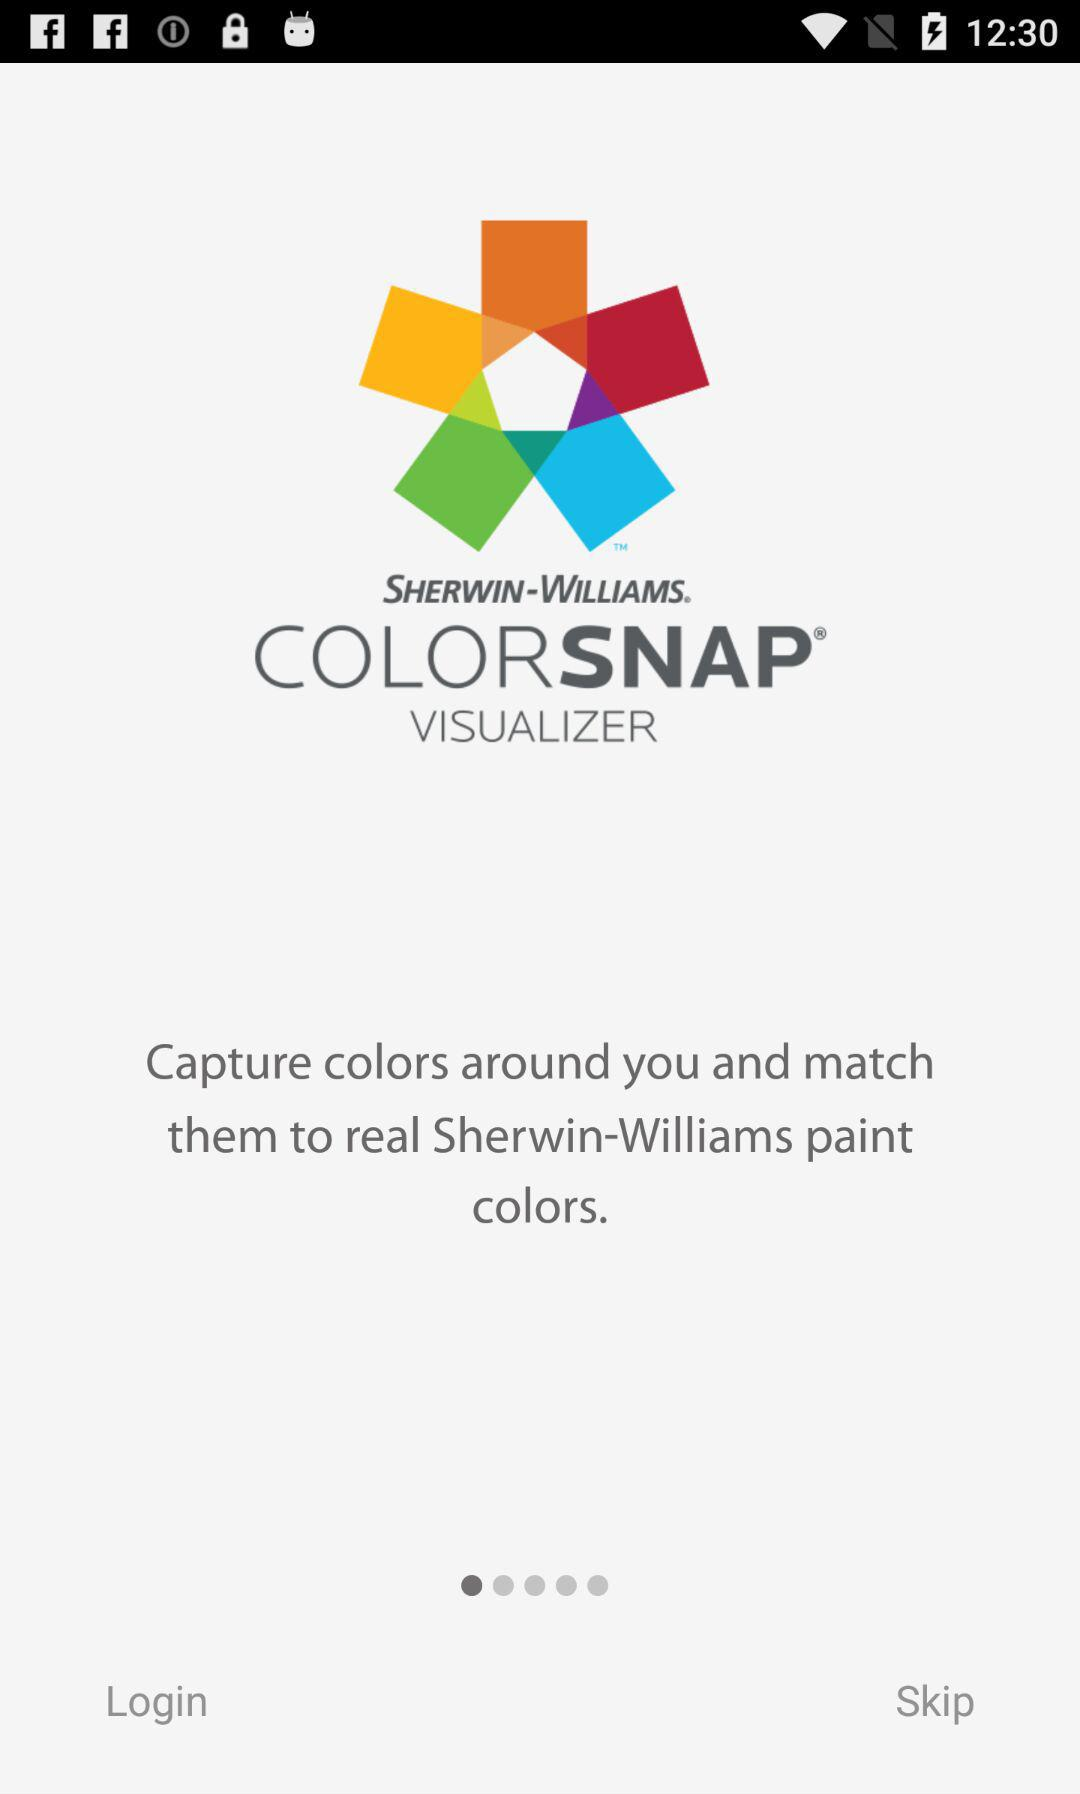Image: (252, 218, 828, 745)
PageIndicator: (460, 1574, 610, 1598)
Text: (143, 1041, 931, 1228), (108, 1683, 208, 1727), (896, 1683, 976, 1727)
UpperTaskBar: (1, 1, 1080, 64)
